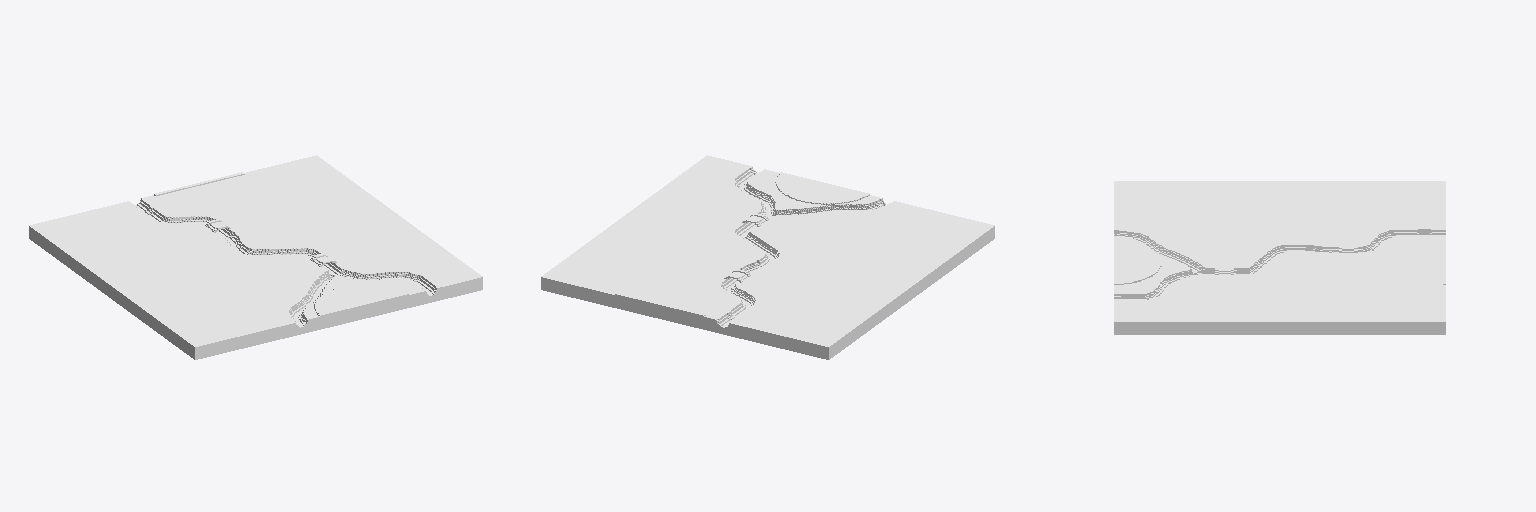
The model's file is new-plains-0.obj.
3 renders of one model, left to right at view 1: azimuth 30°, elevation 25°; view 2: azimuth 150°, elevation 25°; view 3: azimuth 270°, elevation 25°, orthographic.
Parts seen in each view (by area): view 1: object 1; view 2: object 1; view 3: object 1.
Boxes of the visible parts, <box> form: object 1: <box>29,155,482,359</box>; object 1: <box>541,155,994,359</box>; object 1: <box>1114,181,1445,334</box>.
Bounding box in the file's own units: 25.6 × 1.4 × 25.6.